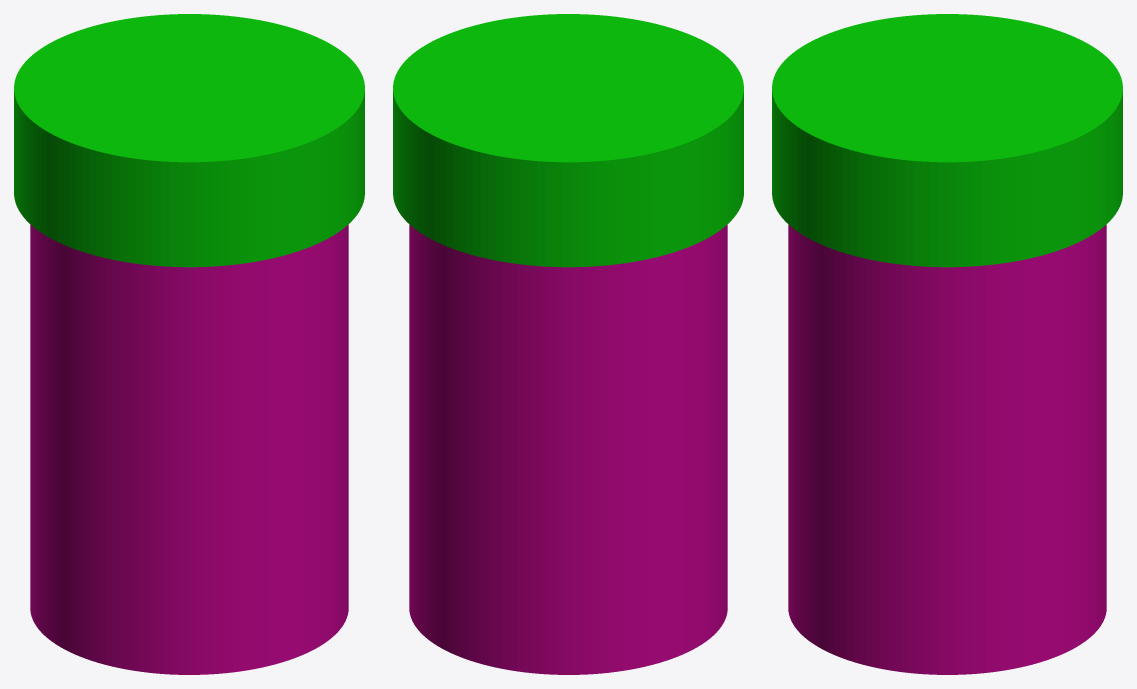
The model's file is 19mmCircle.obj.
3 views of the same model, side by side, from view 1: azimuth 30°, elevation 25°; view 2: azimuth 150°, elevation 25°; view 3: azimuth 270°, elevation 25° (orthographic).
Parts seen in each view (by area): view 1: 19mmCircle.002, 19mmCircle.001; view 2: 19mmCircle.002, 19mmCircle.001; view 3: 19mmCircle.002, 19mmCircle.001.
Part boxes in pixels (x1=…): 19mmCircle.002: x1=30, y1=224, x2=348, y2=674; 19mmCircle.001: x1=14, y1=14, x2=364, y2=267; 19mmCircle.002: x1=409, y1=224, x2=727, y2=674; 19mmCircle.001: x1=393, y1=14, x2=743, y2=267; 19mmCircle.002: x1=788, y1=224, x2=1106, y2=674; 19mmCircle.001: x1=772, y1=14, x2=1122, y2=267.
Bounding box in the file's own units: 19.1 × 31.2 × 19.1.
